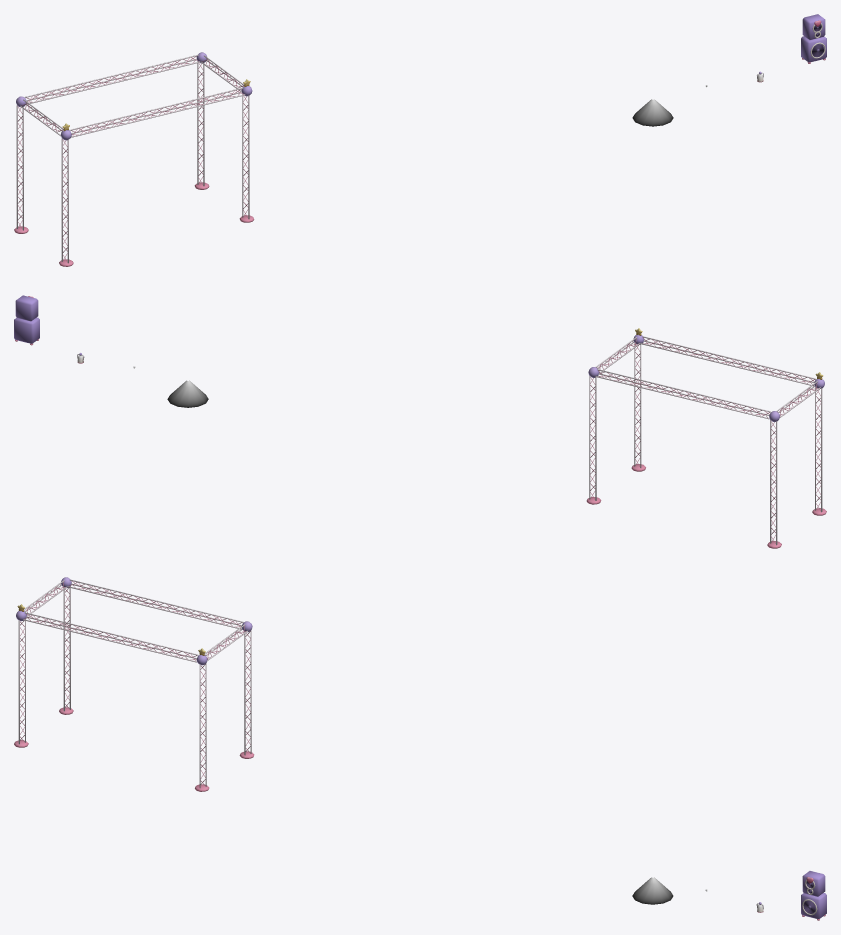
Rendered from prp_stage_rig_lite.glb.
The picture shows the model from 3 angles, top to bottom: view 1: azimuth 30°, elevation 25°; view 2: azimuth 150°, elevation 25°; view 3: azimuth 330°, elevation 25°; orthographic projection.
Visible parts, largest first — view 1: INST_prp_stage_rig_lite_truss, INST_prp_stage_rig_lite_speaker, INST_prp_stage_rig_lite_beam; view 2: INST_prp_stage_rig_lite_truss, INST_prp_stage_rig_lite_speaker, INST_prp_stage_rig_lite_beam; view 3: INST_prp_stage_rig_lite_truss, INST_prp_stage_rig_lite_speaker, INST_prp_stage_rig_lite_beam.
Boxes of the visible parts, x1=… form: INST_prp_stage_rig_lite_truss: x1=14, y1=52, x2=254, y2=266; INST_prp_stage_rig_lite_speaker: x1=801, y1=14, x2=826, y2=63; INST_prp_stage_rig_lite_beam: x1=632, y1=99, x2=673, y2=126; INST_prp_stage_rig_lite_truss: x1=586, y1=328, x2=826, y2=548; INST_prp_stage_rig_lite_speaker: x1=14, y1=295, x2=39, y2=345; INST_prp_stage_rig_lite_beam: x1=167, y1=380, x2=208, y2=407; INST_prp_stage_rig_lite_truss: x1=14, y1=577, x2=254, y2=791; INST_prp_stage_rig_lite_speaker: x1=801, y1=871, x2=826, y2=920; INST_prp_stage_rig_lite_beam: x1=632, y1=877, x2=673, y2=904.
Bounding box in the file's own units: 43.96 × 8.52 × 5.03.
